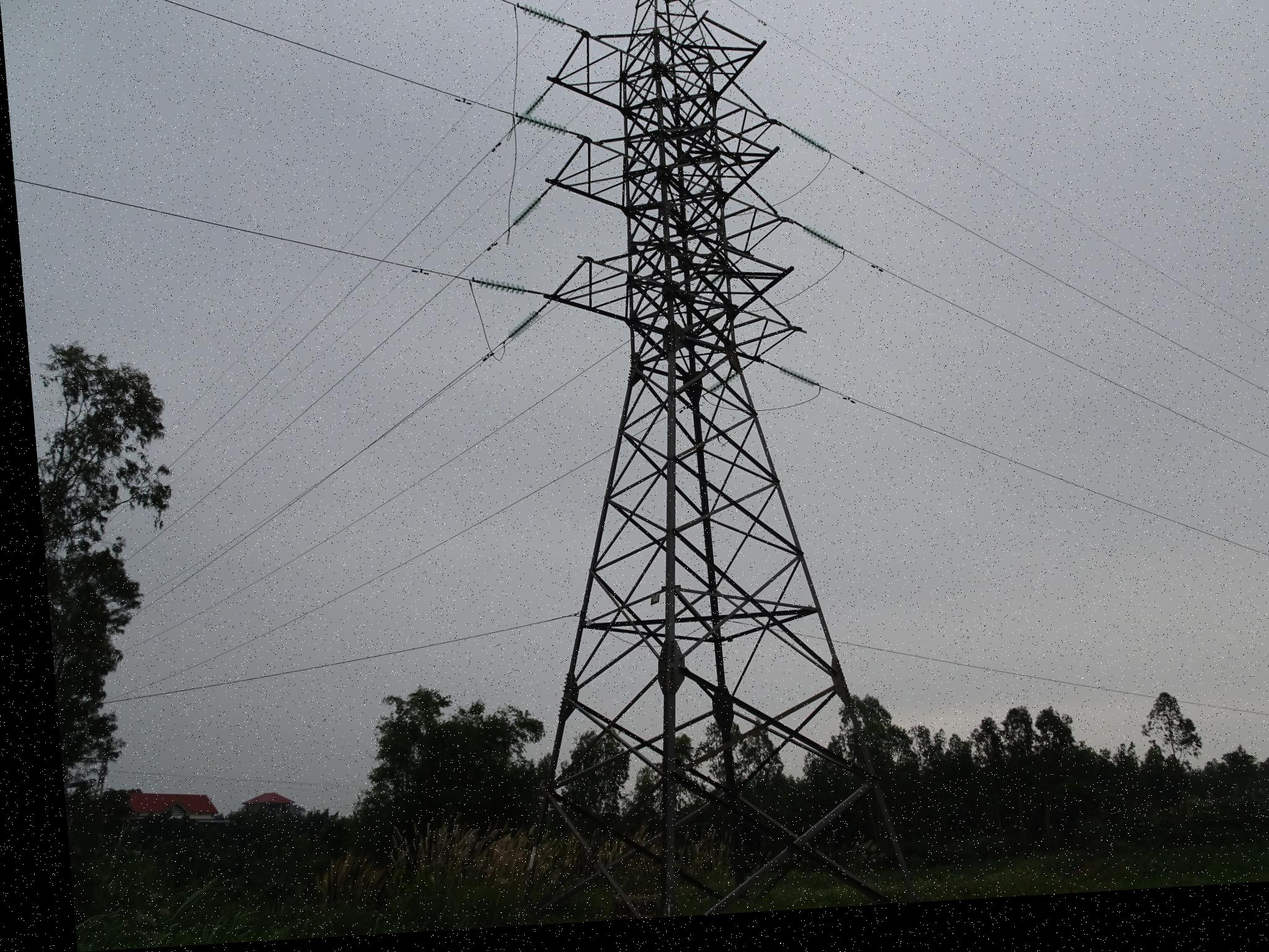tower: (419, 0, 923, 927)
